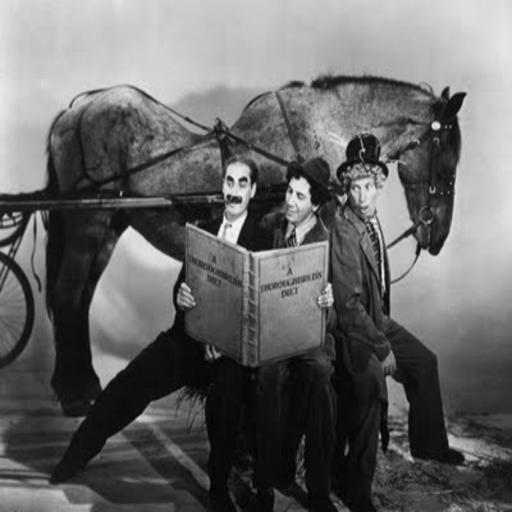horse: (48, 71, 468, 415)
